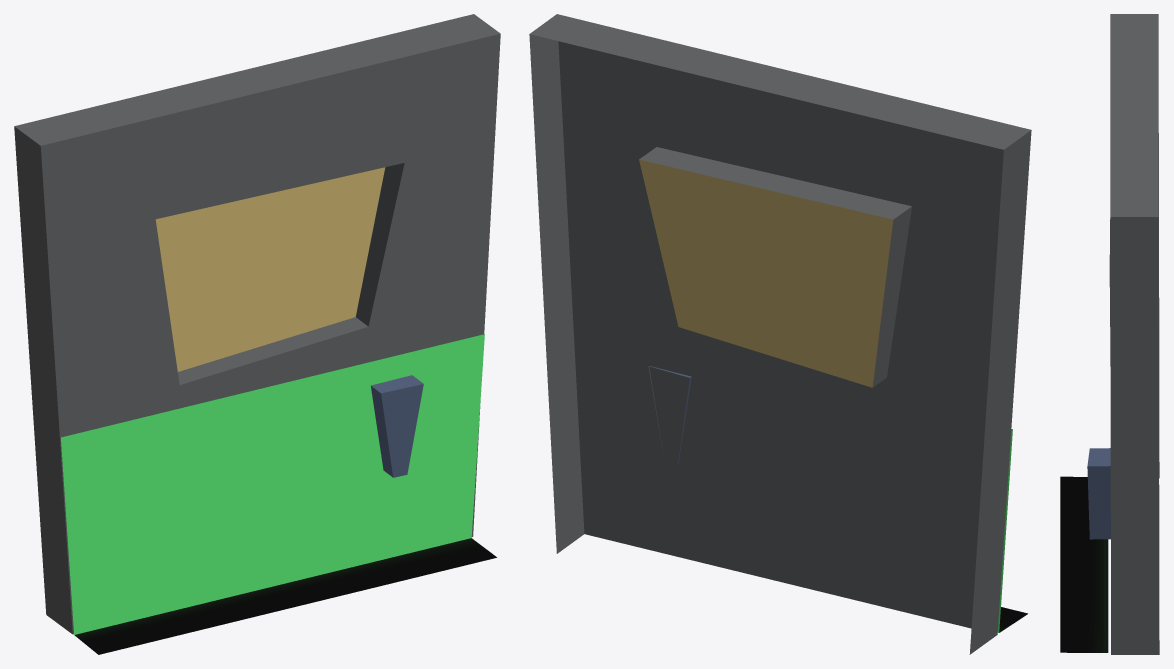
Rendered from DoorA2.fbx.
The picture shows the model from 3 angles, left to right: view 1: azimuth 30°, elevation 25°; view 2: azimuth 150°, elevation 25°; view 3: azimuth 270°, elevation 25°; orthographic projection. The views are drawn at different scales.
Parts seen in each view (by area): view 1: doorA2_, active_top, active_base; view 2: doorA2_; view 3: doorA2_, active_base.
Part boxes in pixels (bbox=[...]): doorA2_: bbox=[14, 14, 500, 634]; active_top: bbox=[61, 334, 484, 634]; active_base: bbox=[74, 538, 496, 654]; doorA2_: bbox=[529, 14, 1031, 654]; doorA2_: bbox=[1087, 14, 1159, 654]; active_base: bbox=[1060, 476, 1108, 652].
Bounding box in the file's own units: 3.01 × 3.11 × 0.6213.
Materials: 2 (2 with a texture image).
